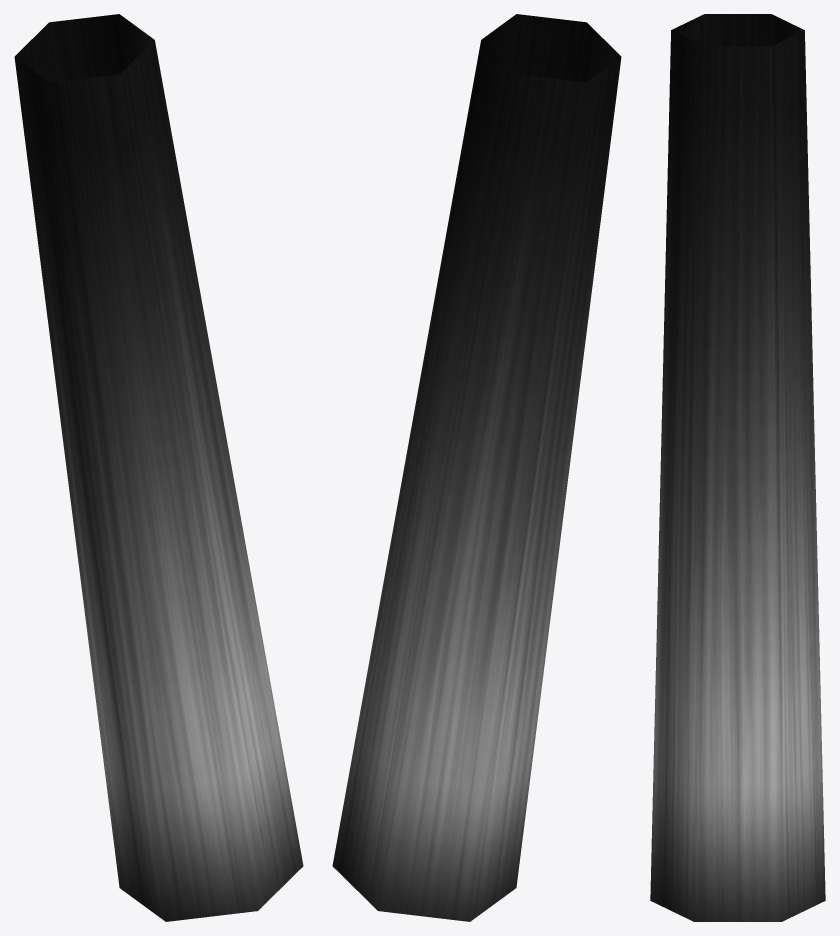
Rendered from caveShaft.fbx.
3 views of the same model, side by side, from view 1: azimuth 30°, elevation 25°; view 2: azimuth 150°, elevation 25°; view 3: azimuth 270°, elevation 25° (orthographic). The views are drawn at different scales.
Visible parts, largest first — view 1: caveShaft; view 2: caveShaft; view 3: caveShaft.
Part boxes in pixels (<box>): caveShaft: <box>14,14,303,921</box>; caveShaft: <box>332,14,621,921</box>; caveShaft: <box>650,14,825,921</box>.
Size of the model in its own units: 4.45 by 15.06 by 2.88.
